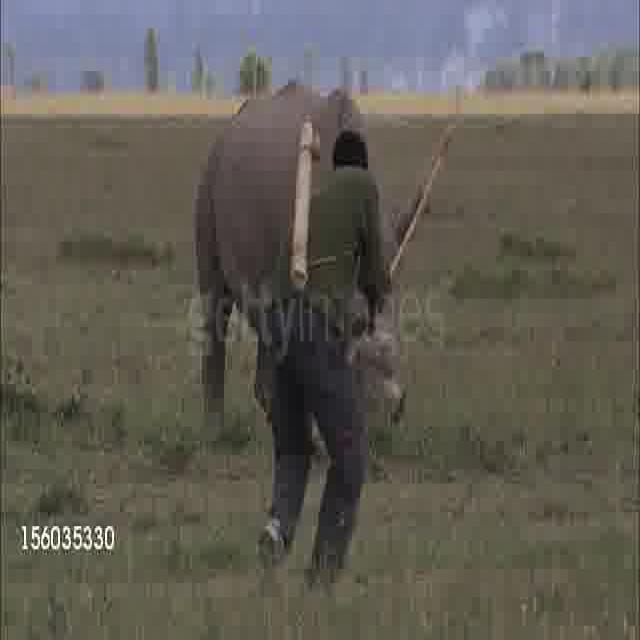Hunter: (238, 124, 422, 598)
